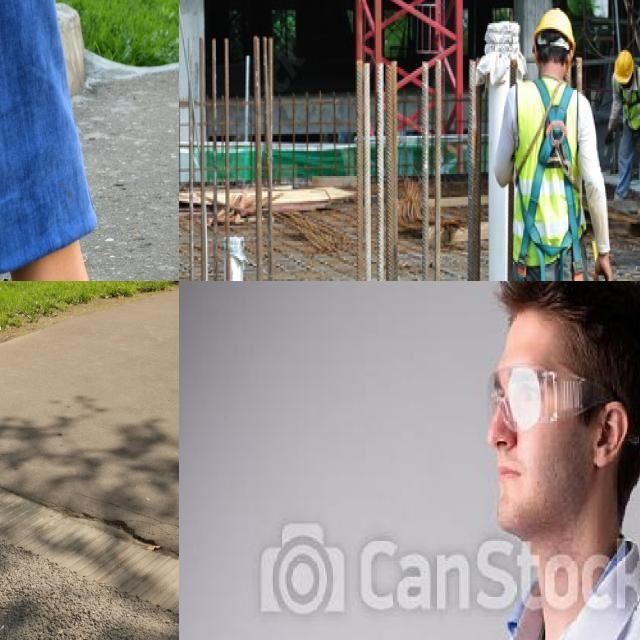Harness: (518, 77, 589, 281)
No_Ear-Protection: (591, 394, 632, 475)
face_nomask: (479, 371, 551, 497)
glasses: (478, 360, 614, 437)
head_nohelmet: (477, 281, 640, 337)
person: (433, 281, 640, 640)
